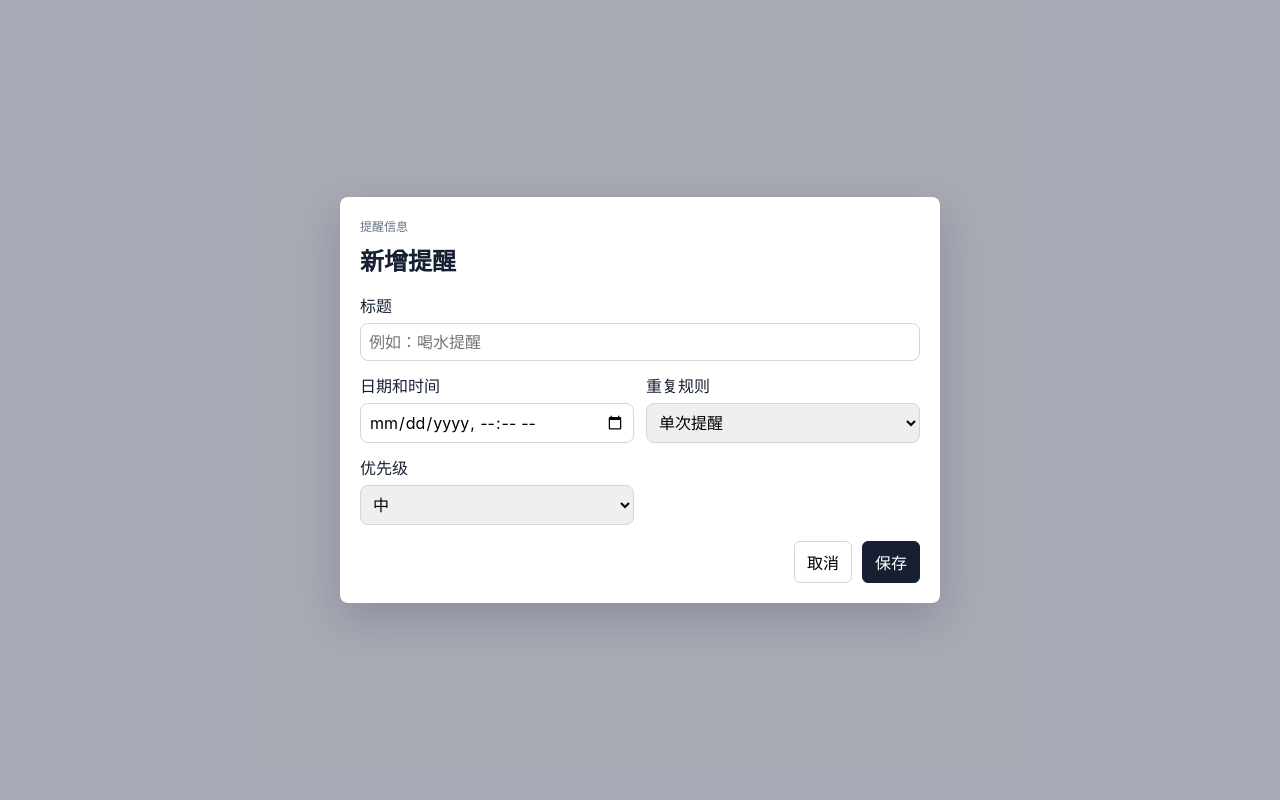
rejects empty title
Click the button "保存" at (891, 562), box left=862, top=541, right=920, bottom=583
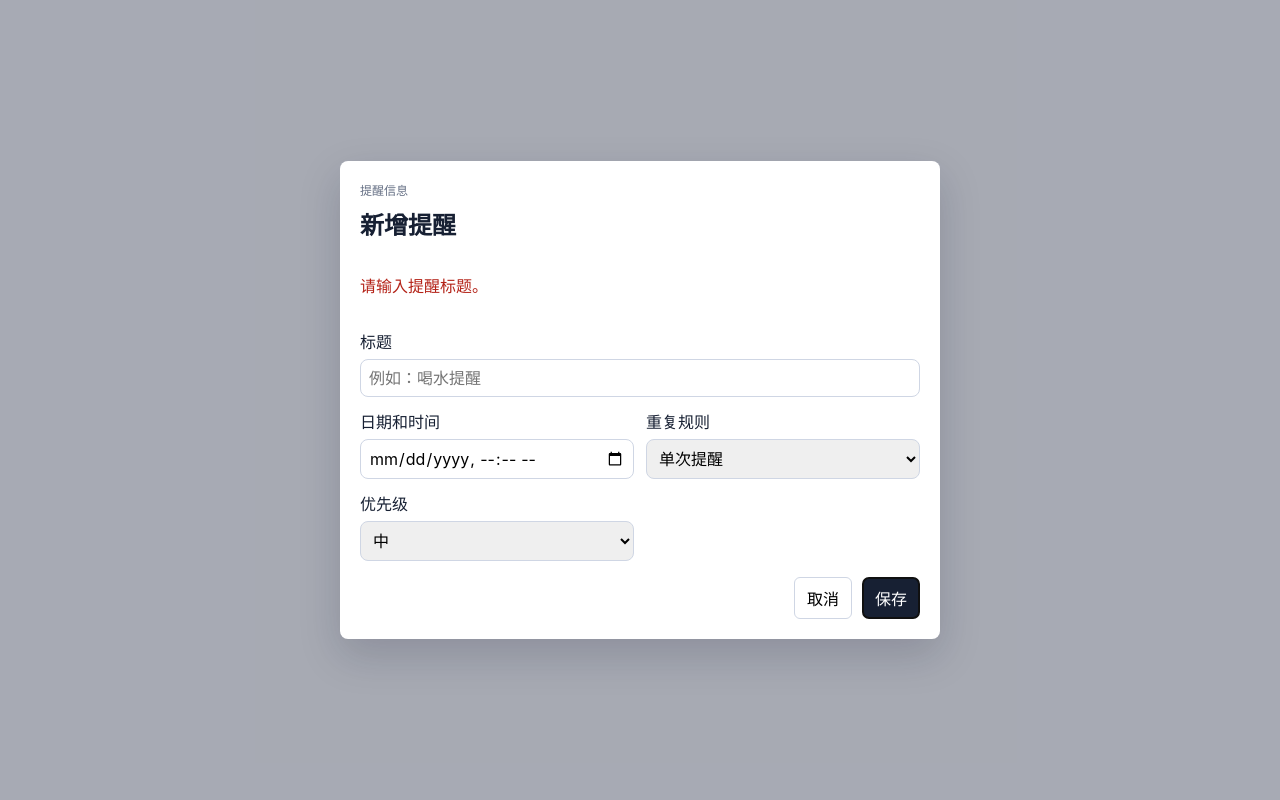
Result: the text "请输入提醒标题。" is shown at left=360, top=276, right=488, bottom=296
